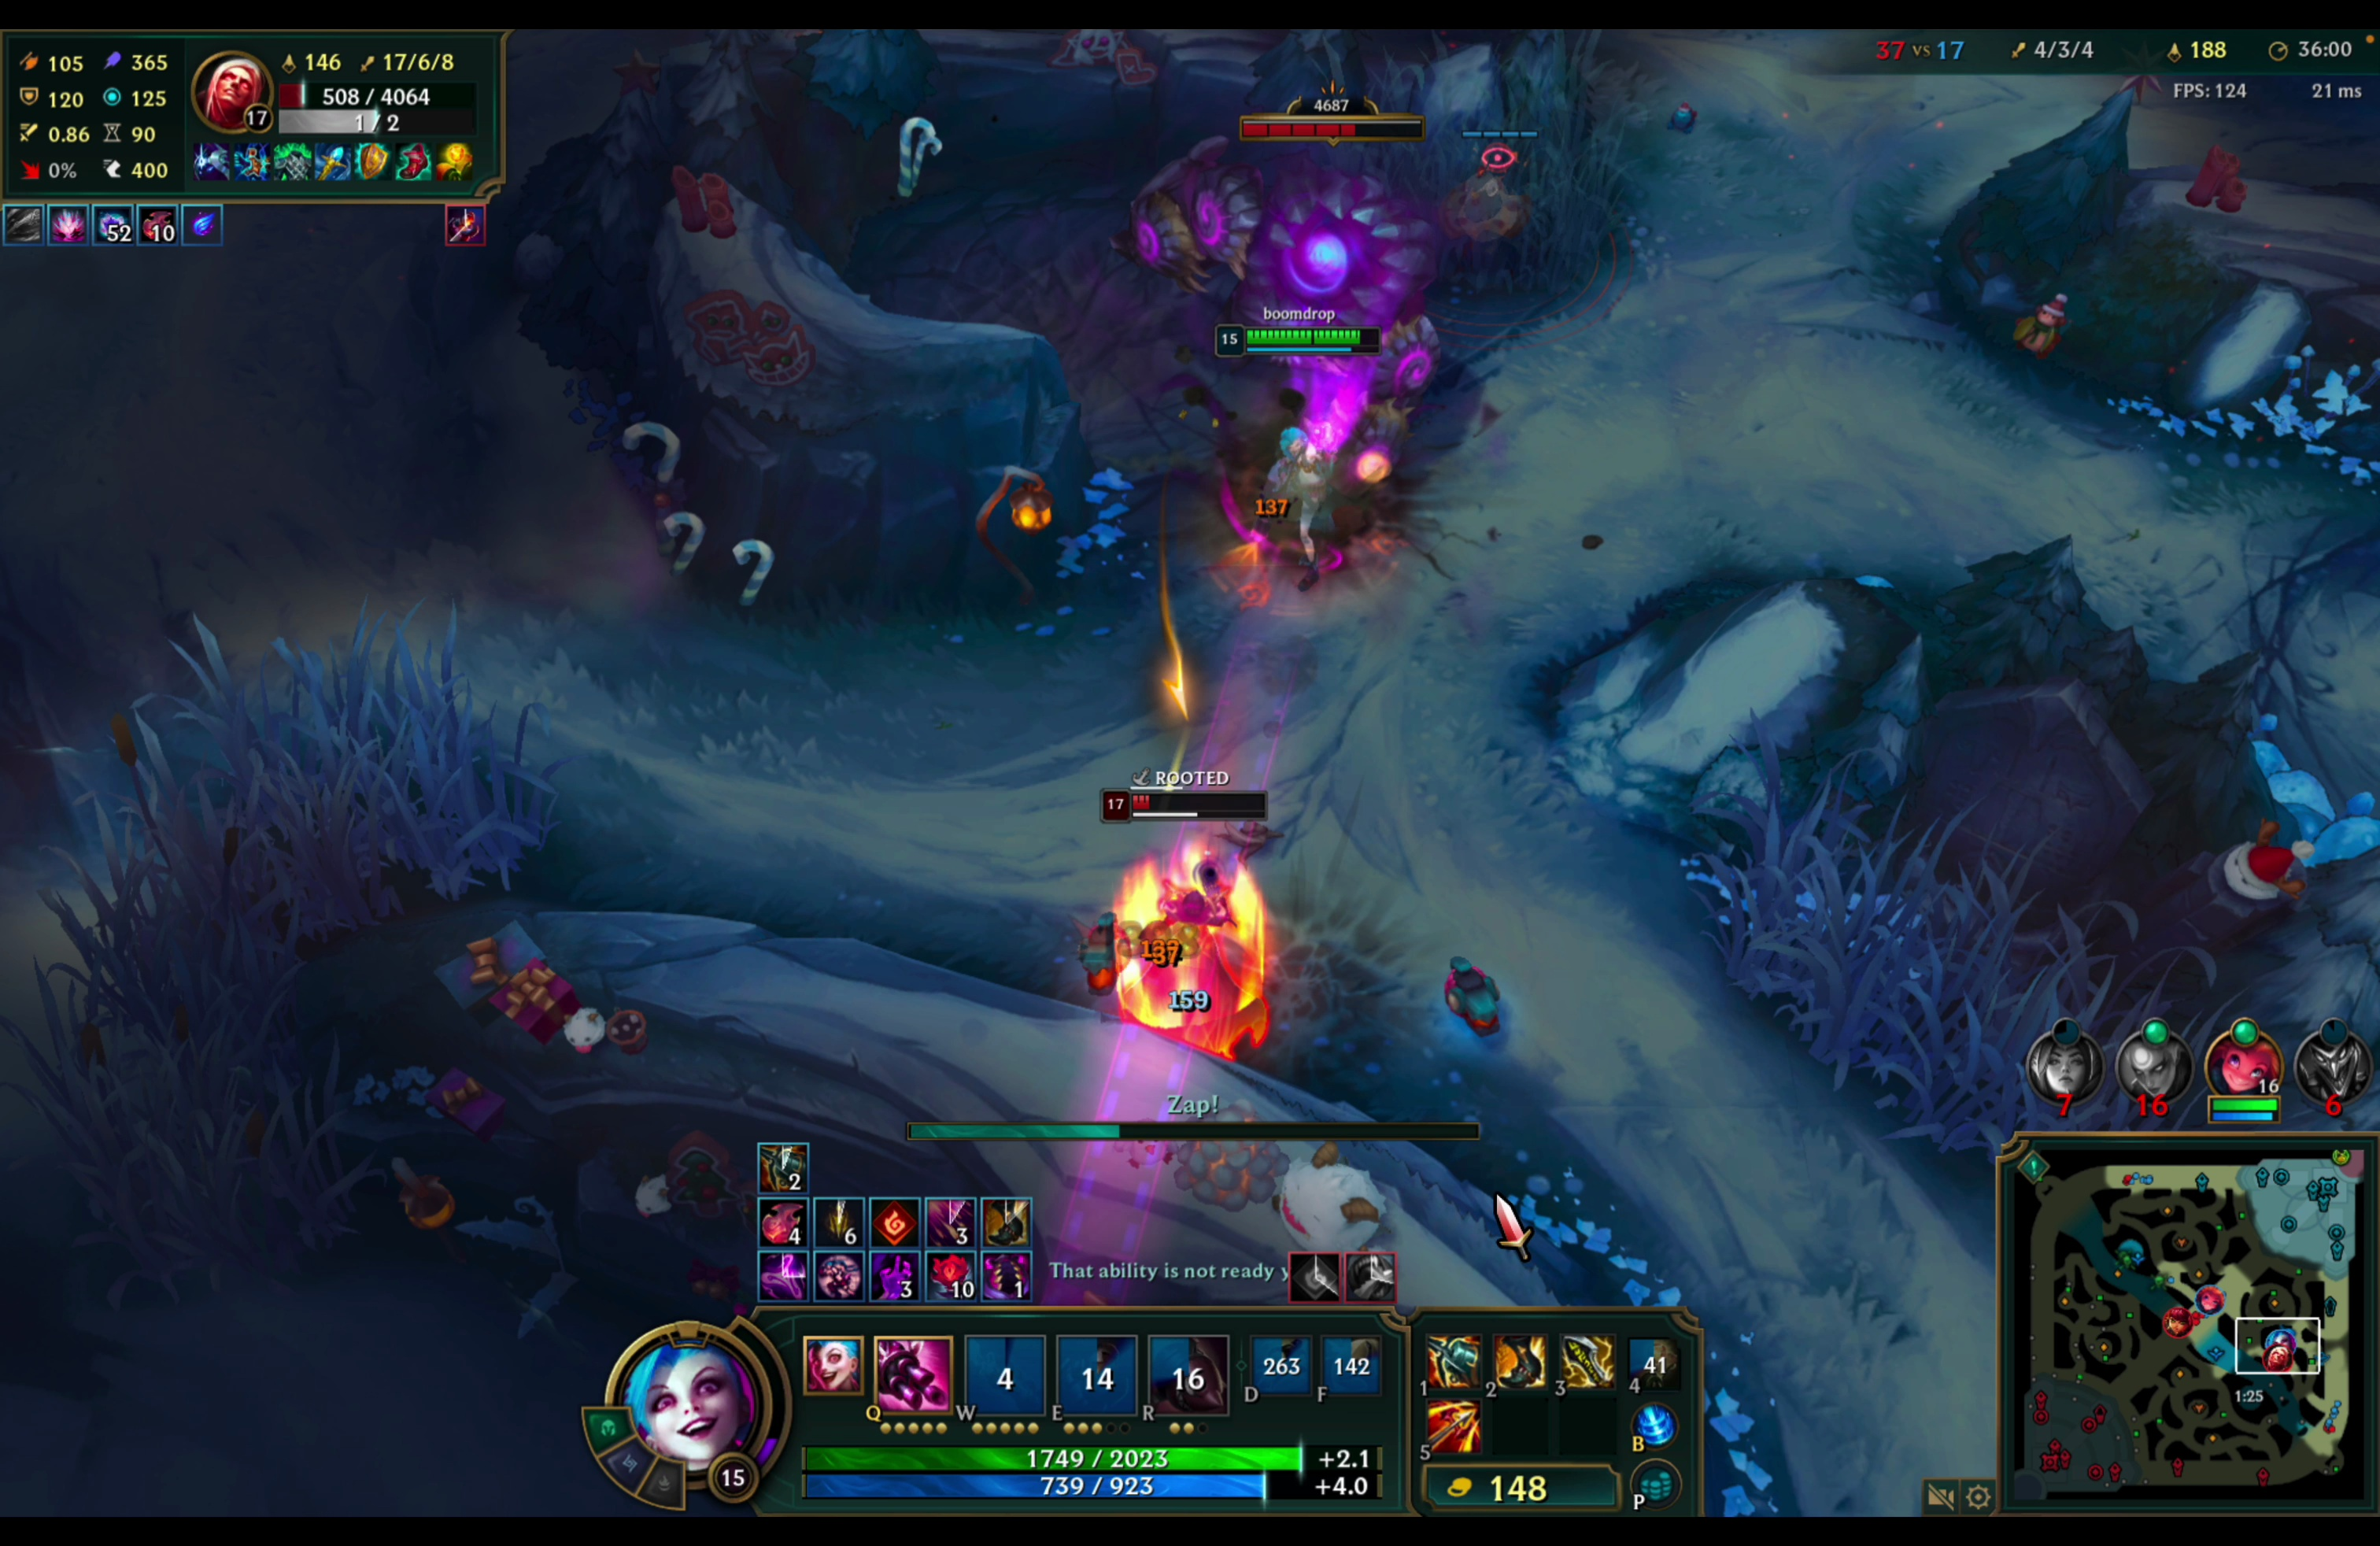JINX_W_PROJECTILE: (1202, 298, 1405, 611)
